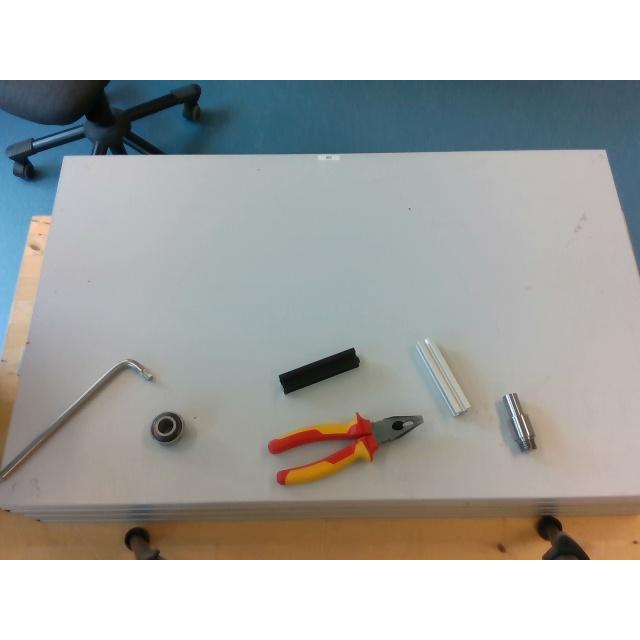AllenKey: (0, 358, 152, 482)
Axis2: (502, 393, 536, 451)
Bearing2: (150, 412, 182, 443)
F20_20_B: (279, 348, 359, 392)
F20_20_G: (416, 338, 470, 414)
